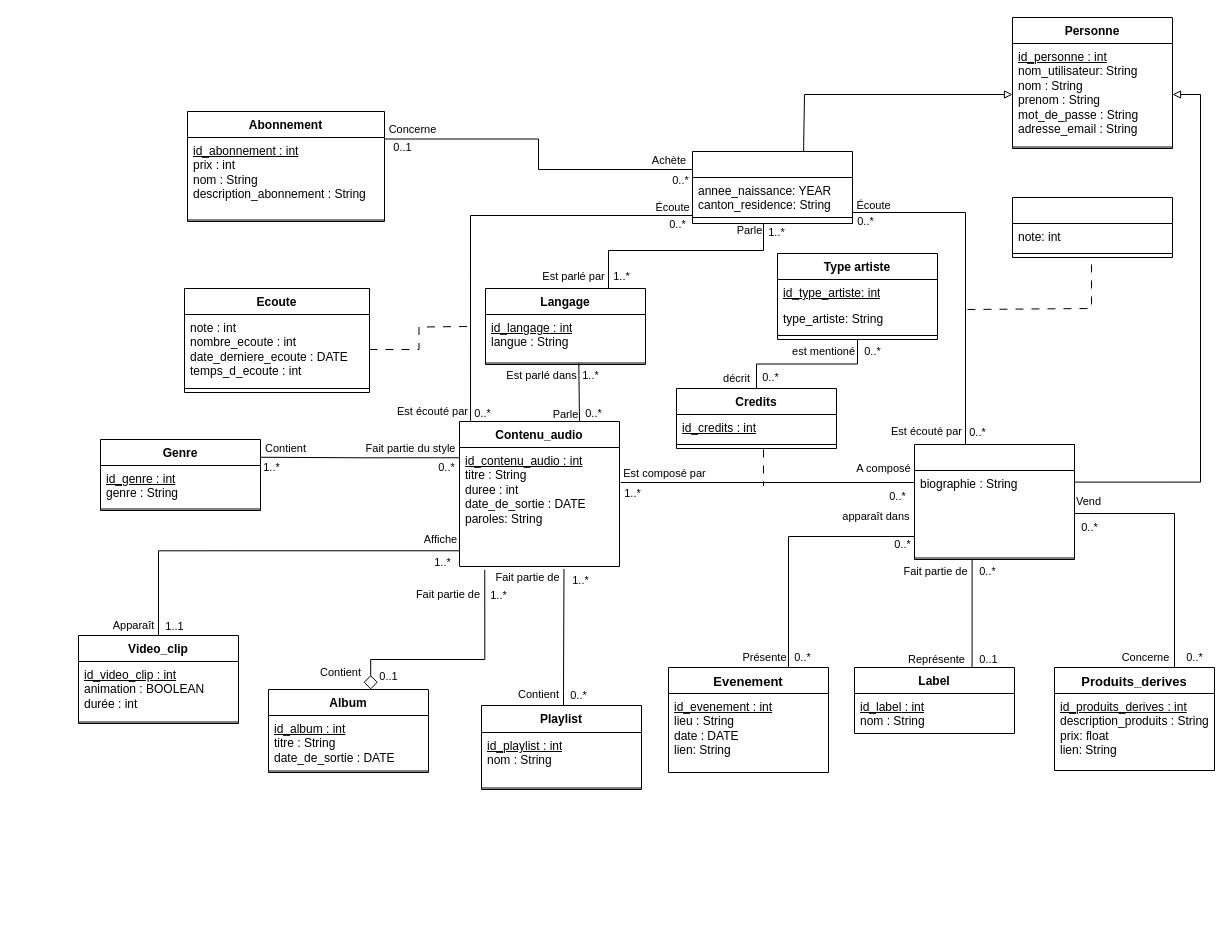
This 1232x947 diagram has some shape labels left out. The box of each missing label's shape, as (x1, y1, x2, y2) in pixels:
Artiste: (914, 444, 1074, 560)
Artiste favori: (1012, 196, 1172, 258)
Utilisateur: (692, 150, 852, 224)
